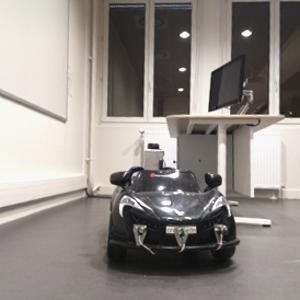big: (103, 163, 240, 273)
